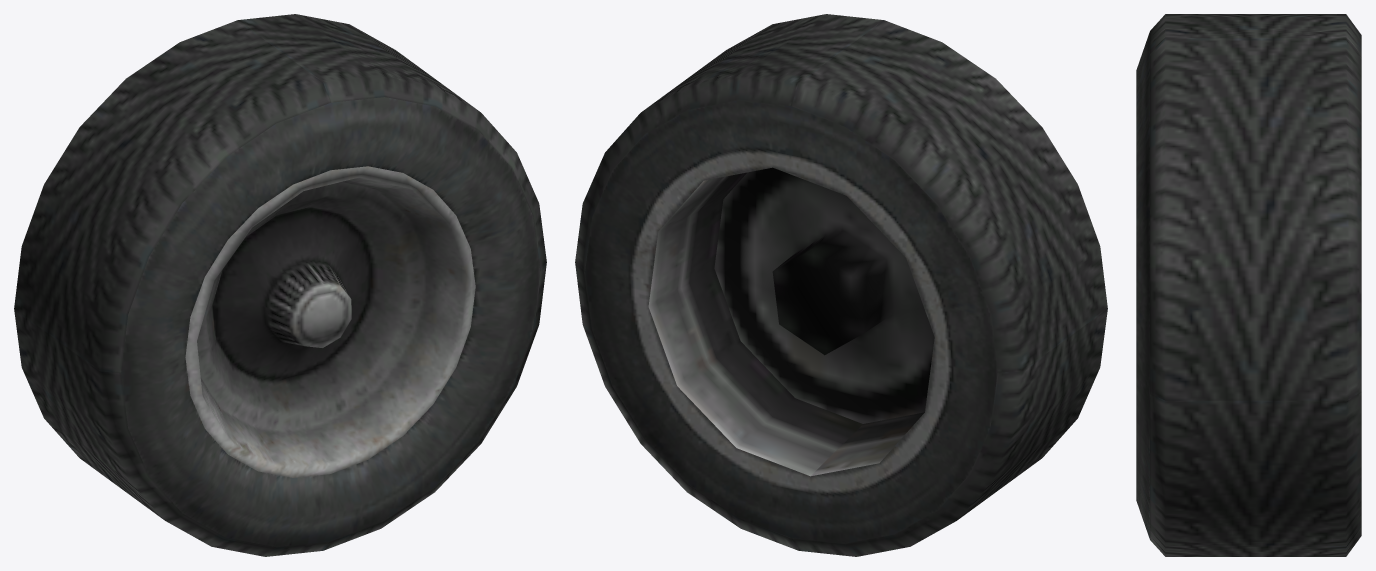
The model's file is V_A_ClassicMuscle_Wheels_9_SkeletalMesh3_SkeletalMesh_12.psk.glb.
The picture shows the model from 3 angles, left to right: view 1: azimuth 30°, elevation 25°; view 2: azimuth 150°, elevation 25°; view 3: azimuth 270°, elevation 25°; orthographic projection. The views are drawn at different scales.
Bounding box in the file's own units: 67.92 × 67.92 × 28.05.
1 material, 1 textured.
